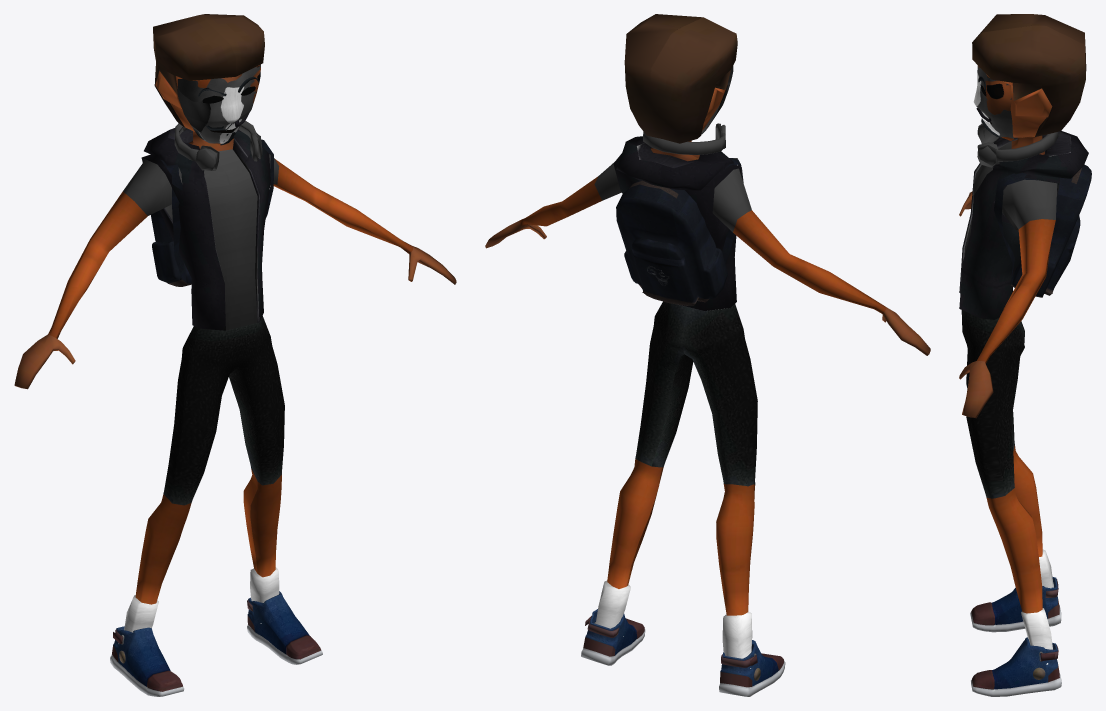
File: Hacker Boy.fbx
3 renders of one model, left to right at view 1: azimuth 30°, elevation 25°; view 2: azimuth 150°, elevation 25°; view 3: azimuth 270°, elevation 25°, orthographic. The views are drawn at different scales.
Parts seen in each view (by area): view 1: Cube_Cube.001, Cube.002, Cube.009, Cube.003, Cube.001, Cube.006, Cylinder.006; view 2: Cube_Cube.001, Cube.006, Cube.002, Cube.003, Cube.001, Cylinder.006; view 3: Cube_Cube.001, Cube.002, Cube.006, Cube.001, Cube.003, Cube.009, Cylinder.006.
Boxes of the visible parts, box(x1,y1,x2,y2) form: Cube_Cube.001: box(14, 14, 456, 643); Cube.002: box(141, 128, 270, 330); Cube.009: box(177, 64, 260, 145); Cube.003: box(110, 626, 184, 696); Cube.001: box(247, 591, 322, 664); Cube.006: box(151, 139, 273, 286); Cylinder.006: box(174, 120, 262, 170); Cube_Cube.001: box(485, 14, 930, 668); Cube.006: box(616, 158, 741, 305); Cube.002: box(613, 136, 743, 311); Cube.003: box(719, 640, 785, 696); Cube.001: box(581, 609, 645, 665); Cylinder.006: box(643, 123, 725, 154); Cube_Cube.001: box(959, 14, 1086, 664); Cube.002: box(959, 131, 1088, 319); Cube.006: box(994, 164, 1091, 297); Cube.001: box(971, 637, 1061, 696); Cube.003: box(970, 576, 1061, 632); Cube.009: box(973, 65, 1014, 140); Cylinder.006: box(977, 123, 1058, 167).
Size of the model in its own units: 106 by 148 by 28.12.
